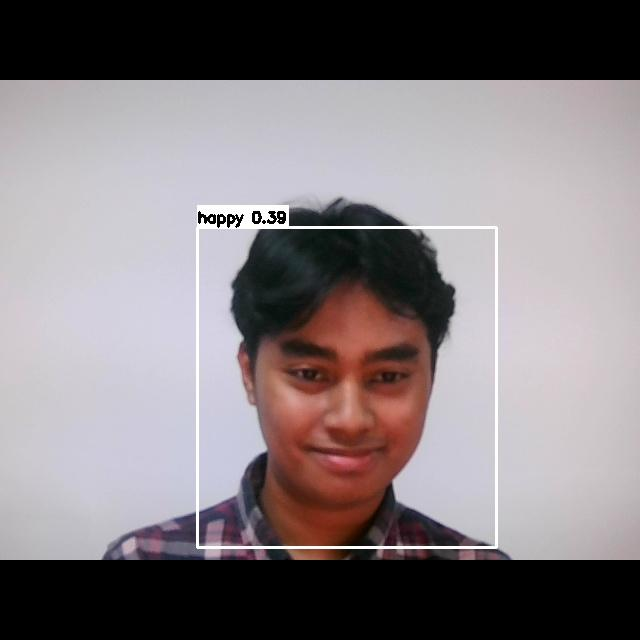Happy: (261, 316, 434, 485)
